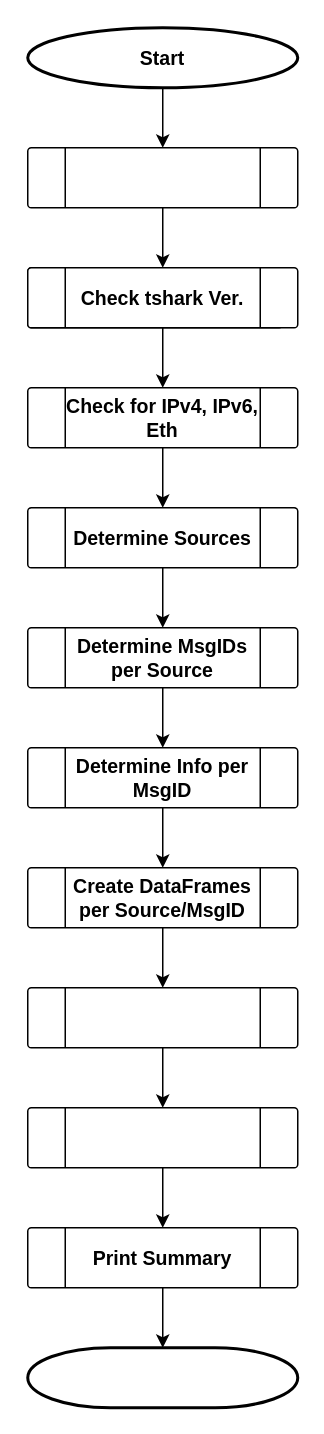
Some shapes in this 324 by 1434 pixel diagram are drawn without their labels. Each missing label, with the centre of its shape:
Calc Info per DataFrame: the point at 162,1017
End of Script: the point at 162,1377
Init: the point at 162,177
Print Information per MsgID: the point at 162,1137
